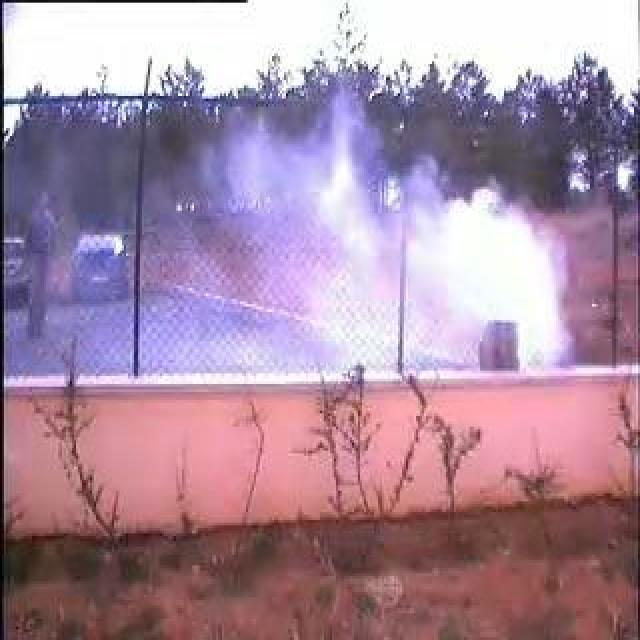Smoke: (217, 133, 573, 371)
